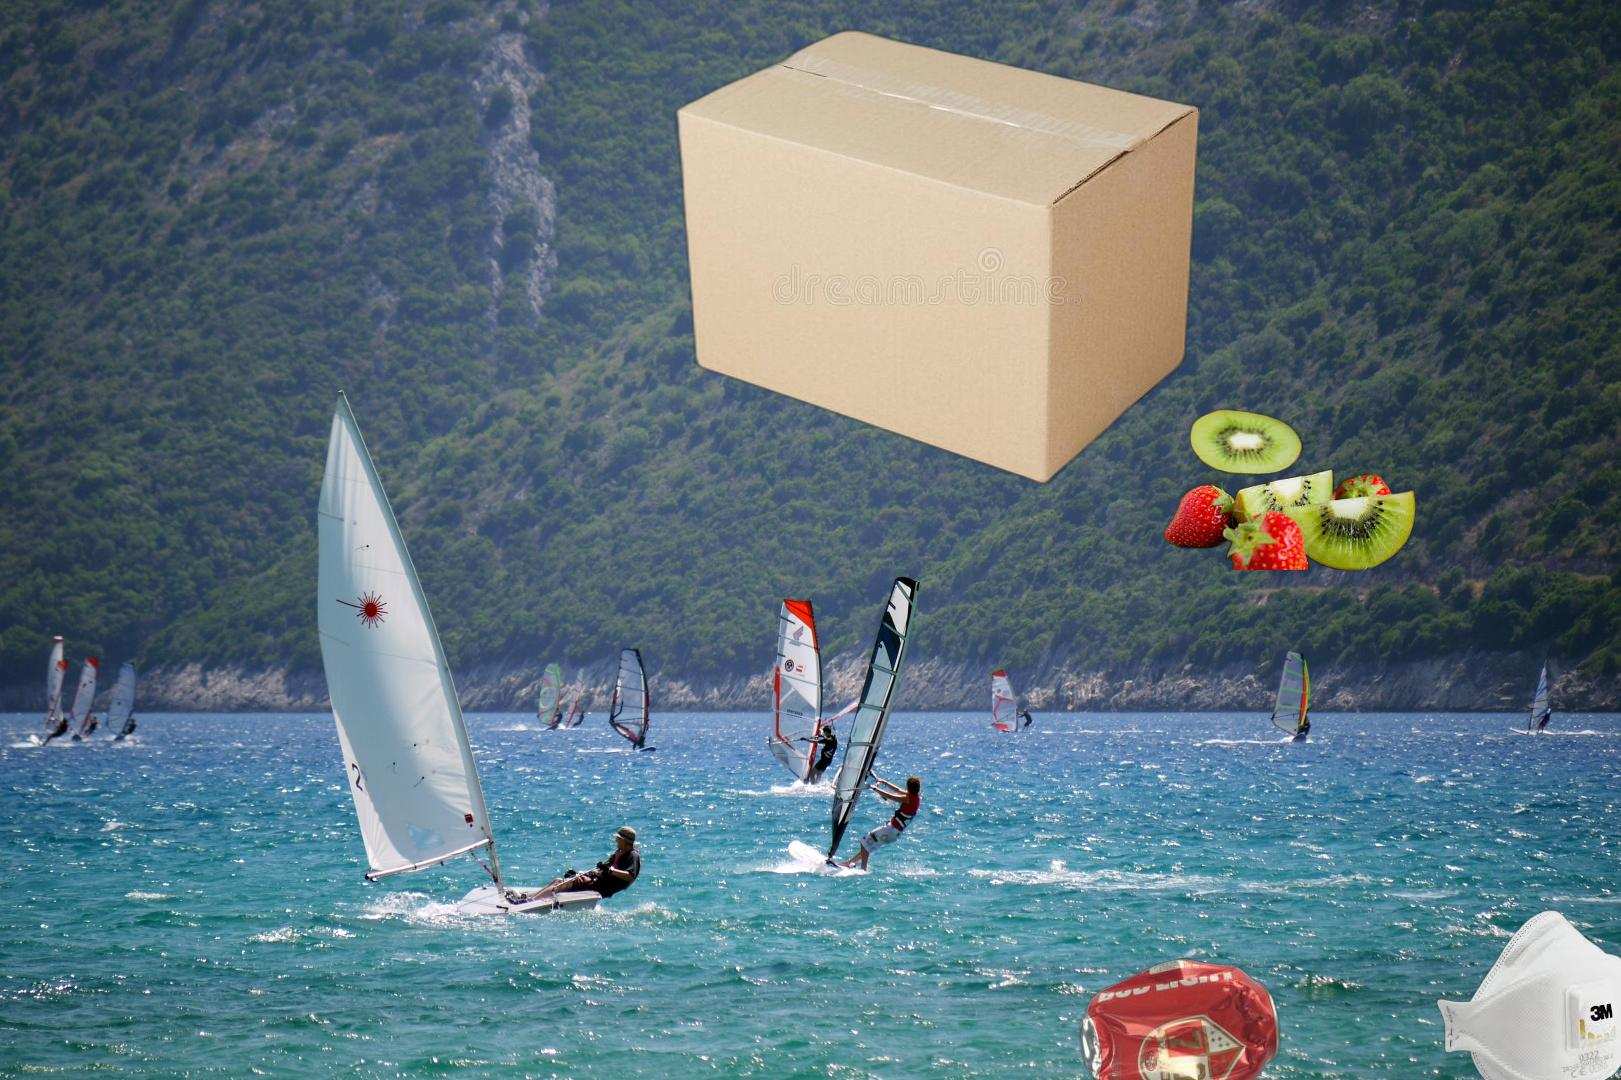biological: (1155, 392, 1419, 570)
metal-cans: (1075, 955, 1285, 1080)
trash: (1434, 908, 1621, 1080)
trashbox-cardboard: (668, 27, 1208, 488)
